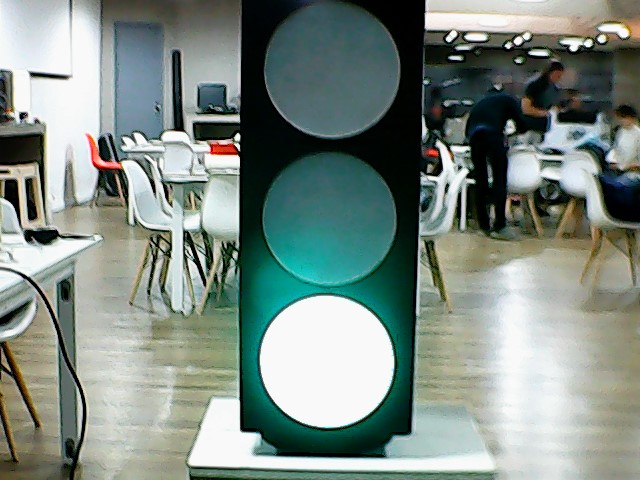verde: (238, 1, 426, 436)
